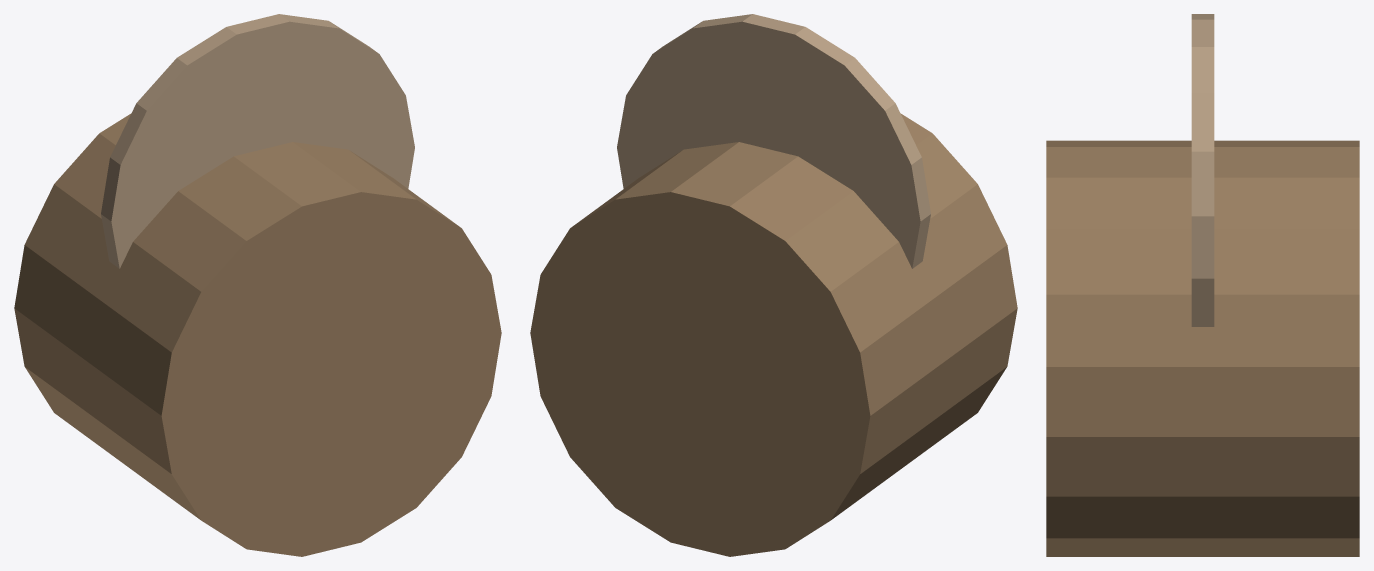
File: stump_short.glb
3 renders of one model, left to right at view 1: azimuth 30°, elevation 25°; view 2: azimuth 150°, elevation 25°; view 3: azimuth 270°, elevation 25°, orthographic. The views are drawn at different scales.
Parts seen in each view (by area): view 1: world; view 2: world; view 3: world.
Part boxes in pixels (x1,y1,x2,y2): world: [14, 14, 501, 556]; world: [530, 14, 1017, 556]; world: [1046, 14, 1359, 556].
Size of the model in its own units: 1.12 by 1.48 by 0.84.
